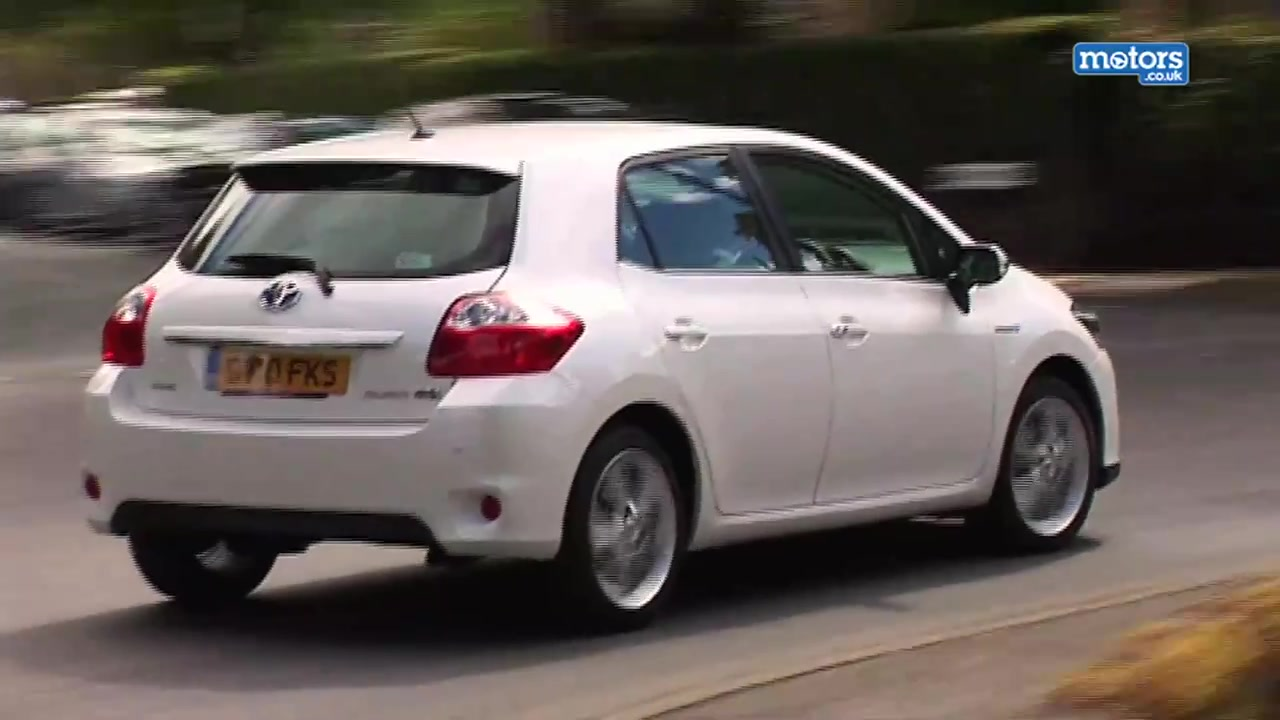car: (85, 118, 1125, 630)
